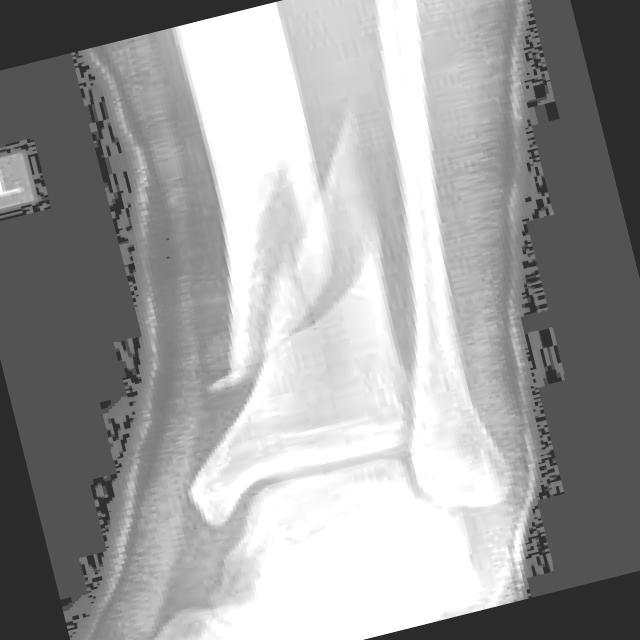Comminuted Fracture: (196, 166, 388, 344)
